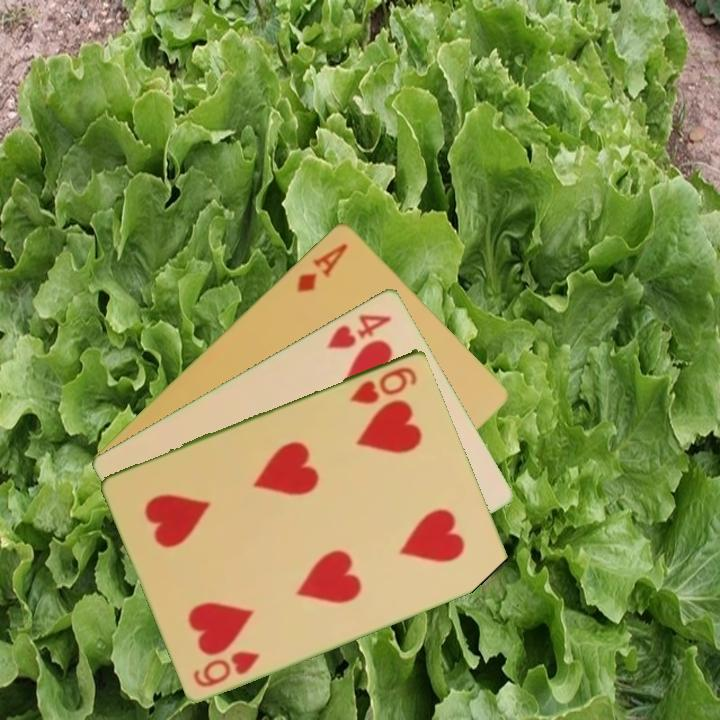4h: (323, 310, 395, 352)
6h: (346, 362, 421, 407), (190, 647, 263, 690)
Ad: (293, 239, 351, 295)
